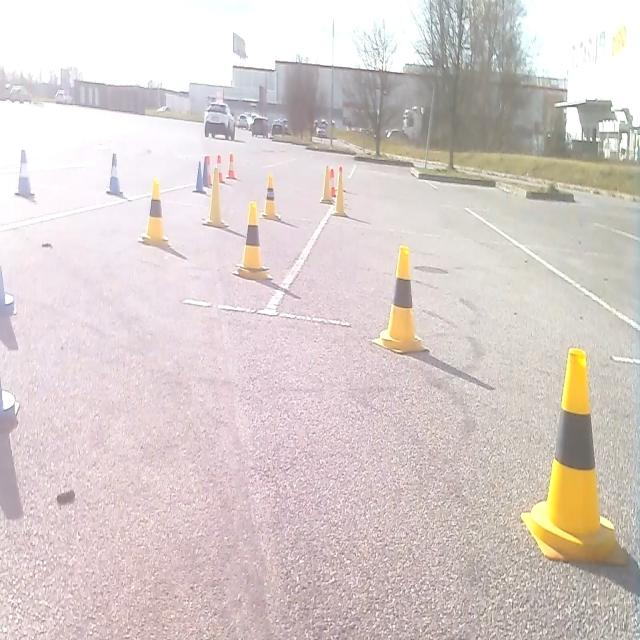blue_cone: (0, 364, 20, 437), (0, 255, 19, 320), (14, 148, 35, 199), (106, 151, 122, 196), (192, 160, 205, 194)
orange_cone: (226, 151, 238, 180), (202, 154, 212, 187), (214, 153, 223, 182)
yellow_cone: (520, 345, 628, 566), (372, 243, 429, 354), (236, 199, 272, 280), (140, 177, 170, 247), (202, 166, 228, 228), (260, 172, 280, 221), (332, 165, 347, 216), (319, 164, 333, 204), (329, 167, 336, 197)
